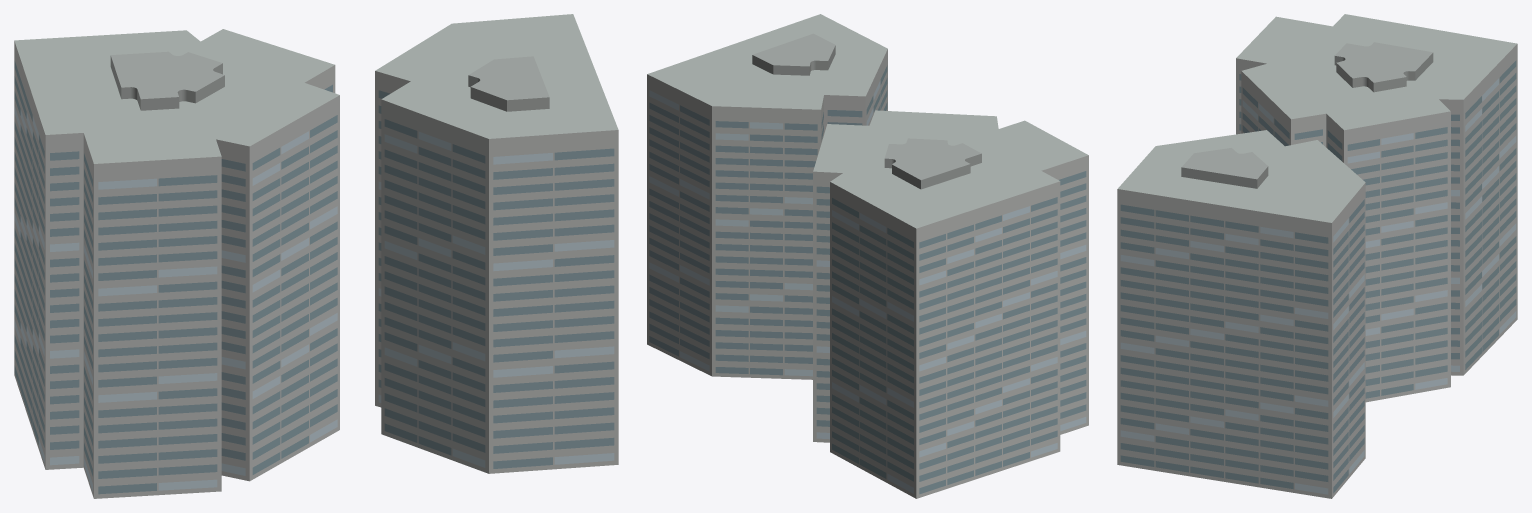
File: apt-a13402003.glb
3 views of the same model, side by side, from view 1: azimuth 30°, elevation 25°; view 2: azimuth 150°, elevation 25°; view 3: azimuth 270°, elevation 25° (orthographic). The views are drawn at different scales.
Visible parts, largest first — view 1: apt-a13402003; view 2: apt-a13402003; view 3: apt-a13402003.
Boxes of the visible parts, x1,y1,x2,y2 form: apt-a13402003: [14, 14, 618, 498]; apt-a13402003: [647, 14, 1088, 498]; apt-a13402003: [1117, 14, 1517, 498].
Bounding box in the file's own units: 113 × 72 × 91.45.
